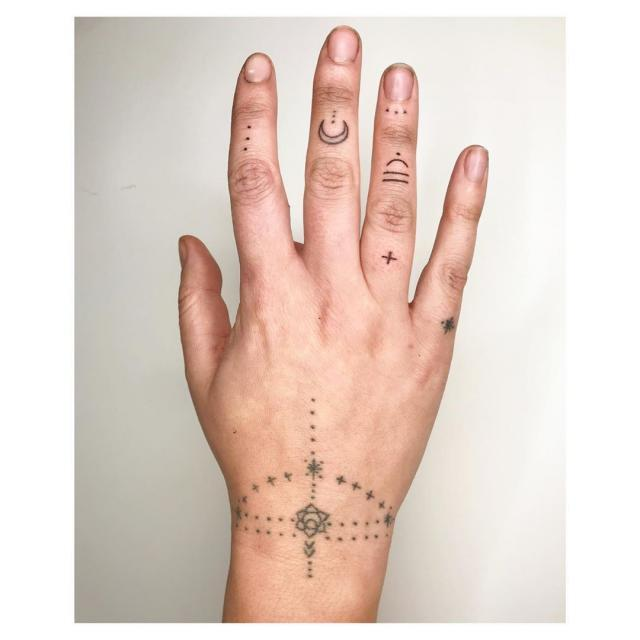no-gloves: (172, 22, 490, 491)
